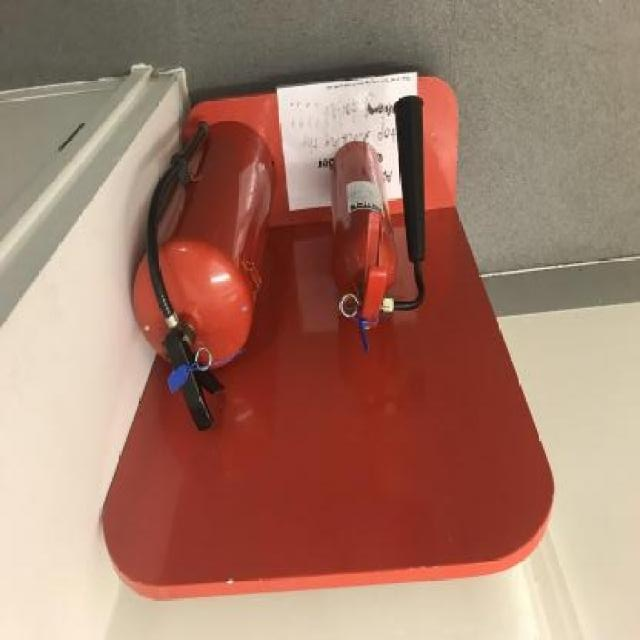fire extinguisher: (134, 118, 278, 435), (330, 94, 427, 358)
